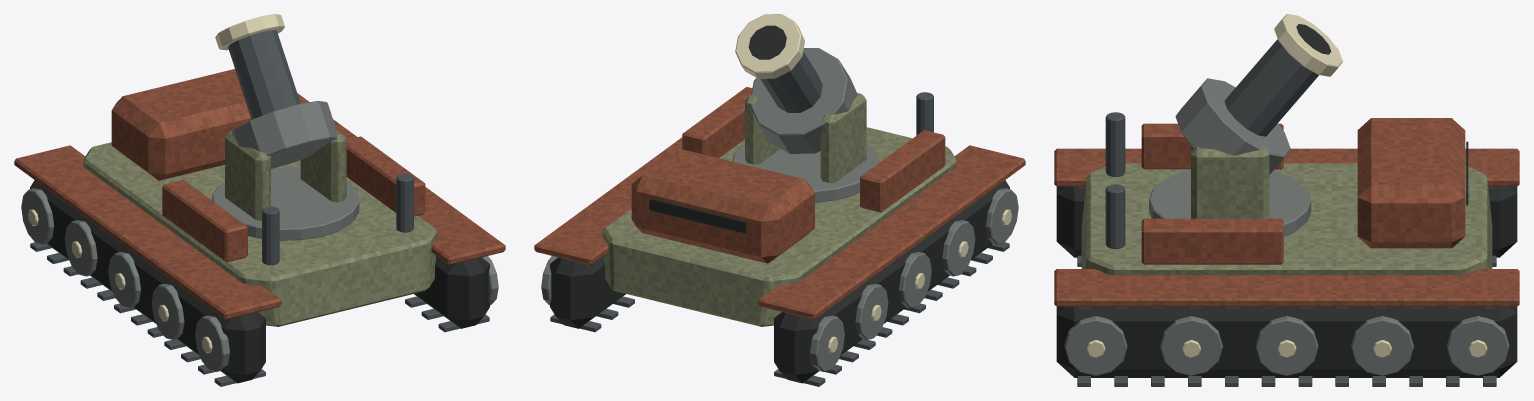
The picture shows the model from 3 angles, left to right: view 1: azimuth 30°, elevation 25°; view 2: azimuth 150°, elevation 25°; view 3: azimuth 270°, elevation 25°; orthographic projection. The views are drawn at different scales.
Visible parts, largest first — view 1: ST2-E03_Mesh, Track_L_Mesh, TurretYaw_Mesh, BarrelRecoil_Mesh, Track_R_Mesh; view 2: ST2-E03_Mesh, Track_L_Mesh, BarrelRecoil_Mesh, TurretYaw_Mesh, Track_R_Mesh; view 3: ST2-E03_Mesh, Track_R_Mesh, BarrelRecoil_Mesh, TurretYaw_Mesh, Track_L_Mesh.
Part boxes in pixels (bbox=[...]): ST2-E03_Mesh: bbox=[14, 69, 505, 326]; Track_L_Mesh: bbox=[21, 180, 265, 386]; TurretYaw_Mesh: bbox=[212, 130, 359, 240]; BarrelRecoil_Mesh: bbox=[215, 14, 337, 168]; Track_R_Mesh: bbox=[405, 255, 498, 332]; ST2-E03_Mesh: bbox=[534, 87, 1025, 326]; Track_L_Mesh: bbox=[774, 180, 1018, 386]; BarrelRecoil_Mesh: bbox=[735, 14, 857, 153]; TurretYaw_Mesh: bbox=[732, 93, 879, 202]; Track_R_Mesh: bbox=[541, 255, 634, 332]; ST2-E03_Mesh: bbox=[1054, 112, 1519, 306]; Track_R_Mesh: bbox=[1056, 306, 1517, 386]; BarrelRecoil_Mesh: bbox=[1175, 14, 1342, 174]; TurretYaw_Mesh: bbox=[1149, 145, 1311, 236]; Track_L_Mesh: bbox=[1056, 186, 1517, 266].
Bounding box in the file's own units: 3.66 × 3.33 × 4.75.
